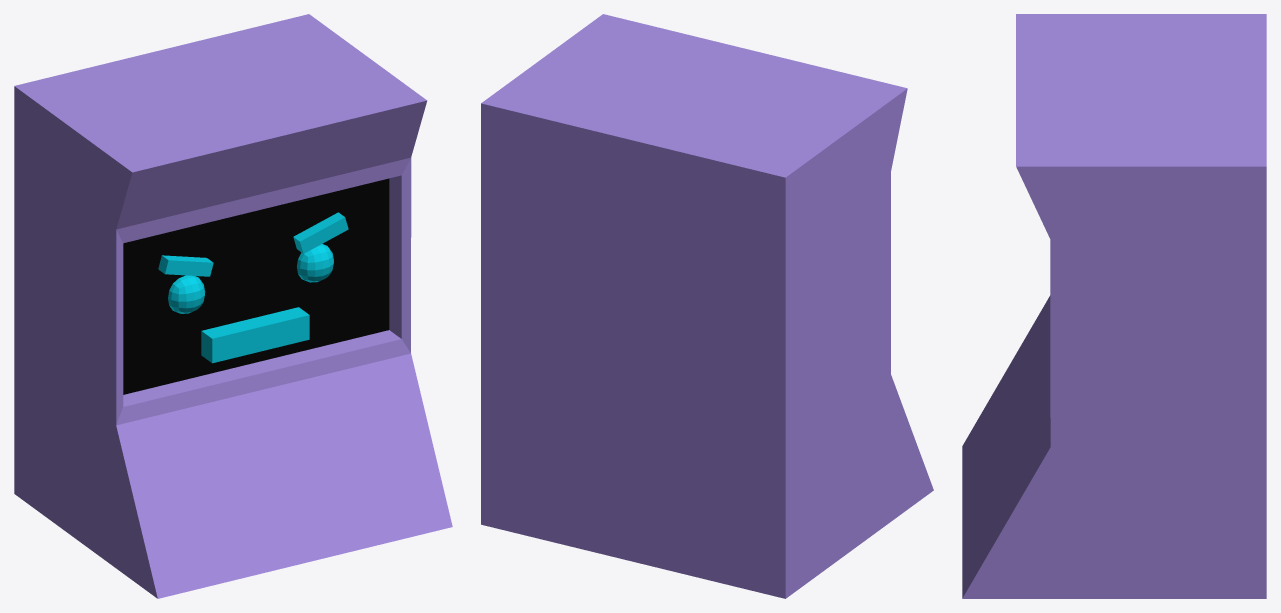
The model's file is final_boss.gltf.
The picture shows the model from 3 angles, left to right: view 1: azimuth 30°, elevation 25°; view 2: azimuth 150°, elevation 25°; view 3: azimuth 270°, elevation 25°; orthographic projection. The views are drawn at different scales.
Parts seen in each view (by area): view 1: Cube; view 2: Cube; view 3: Cube.
Part boxes in pixels (x1=…): Cube: x1=14, y1=14, x2=452, y2=598; Cube: x1=481, y1=14, x2=933, y2=598; Cube: x1=962, y1=14, x2=1266, y2=598.
Bounding box in the file's own units: 6.78 × 8.96 × 5.72.
